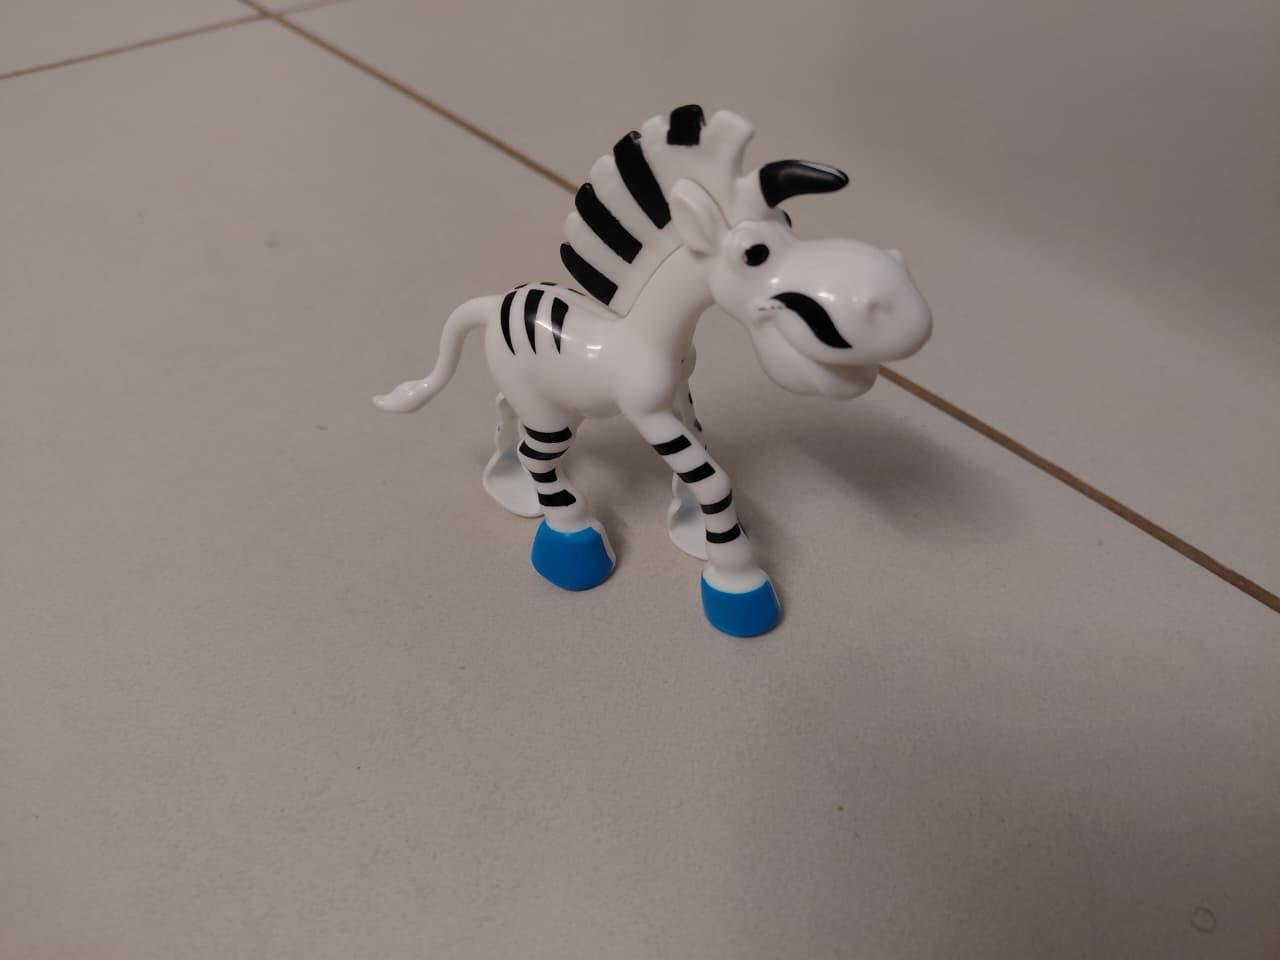zebra: (314, 85, 1005, 711)
